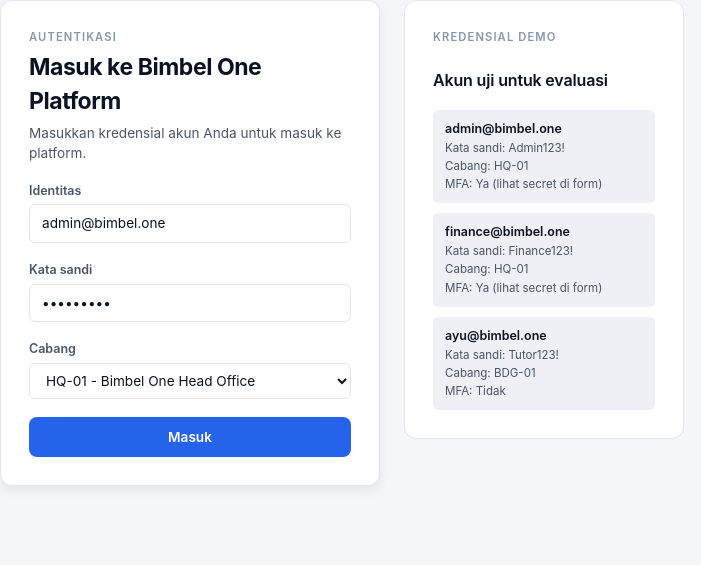
Test case: LoginForm › shows error message on failed login
Click the button "Masuk".
click(190, 437)  # box [29,417,351,457]
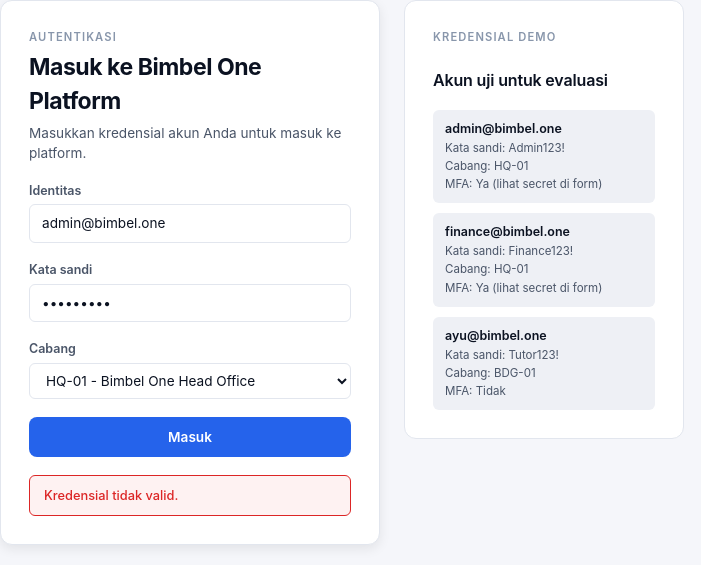
Result: the text "Kredensial tidak valid." is shown at [29,475,351,516]
